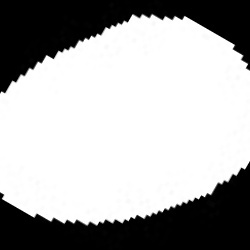spot: (2, 14, 248, 223)
